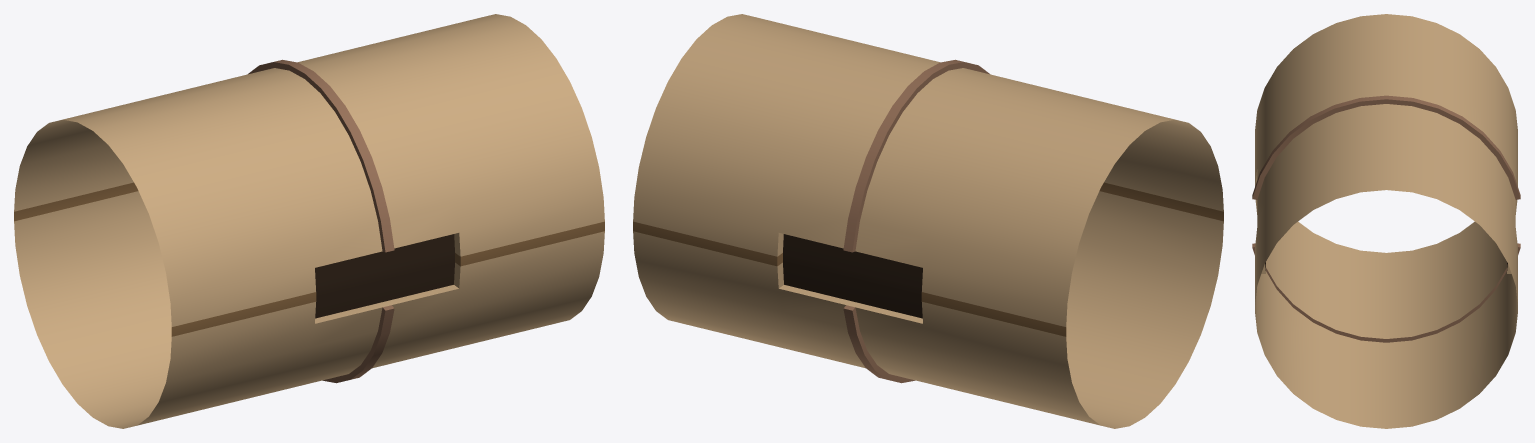
Rendered from high-pipe.glb.
3 renders of one model, left to right at view 1: azimuth 30°, elevation 25°; view 2: azimuth 150°, elevation 25°; view 3: azimuth 270°, elevation 25°, orthographic. The views are drawn at different scales.
Parts seen in each view (by area): view 1: Connector; view 2: Connector; view 3: Connector.
Part boxes in pixels (x1,y1,x2,y2): Connector: (14, 14, 604, 428); Connector: (633, 14, 1223, 428); Connector: (1252, 14, 1520, 428).
Bounding box in the file's own units: 2.6 × 1.71 × 1.68.
Materials: 1 (1 with a texture image).
